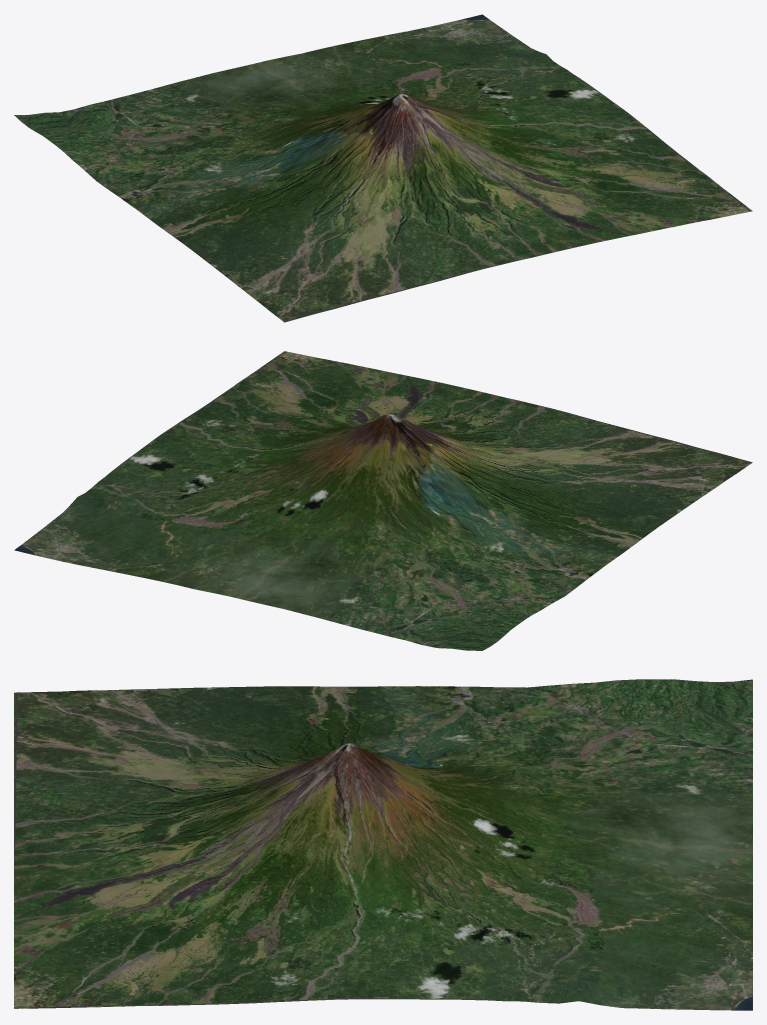
Rendered from mayon_FULL3.glb.
3 renders of one model, top to bottom at view 1: azimuth 30°, elevation 25°; view 2: azimuth 150°, elevation 25°; view 3: azimuth 270°, elevation 25°, orthographic. The views are drawn at different scales.
Visible parts, largest first — view 1: mayon_dense1; view 2: mayon_dense1; view 3: mayon_dense1.
Boxes of the visible parts, box(x1,y1,x2,y2) form: mayon_dense1: box(14, 14, 752, 322); mayon_dense1: box(14, 351, 752, 650); mayon_dense1: box(14, 679, 752, 1010).
Size of the model in its own units: 168 by 28.63 by 168.
Materials: 1 (1 with a texture image).
